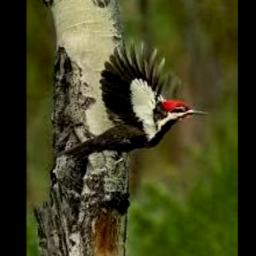Woodpecker: (59, 40, 208, 164)
